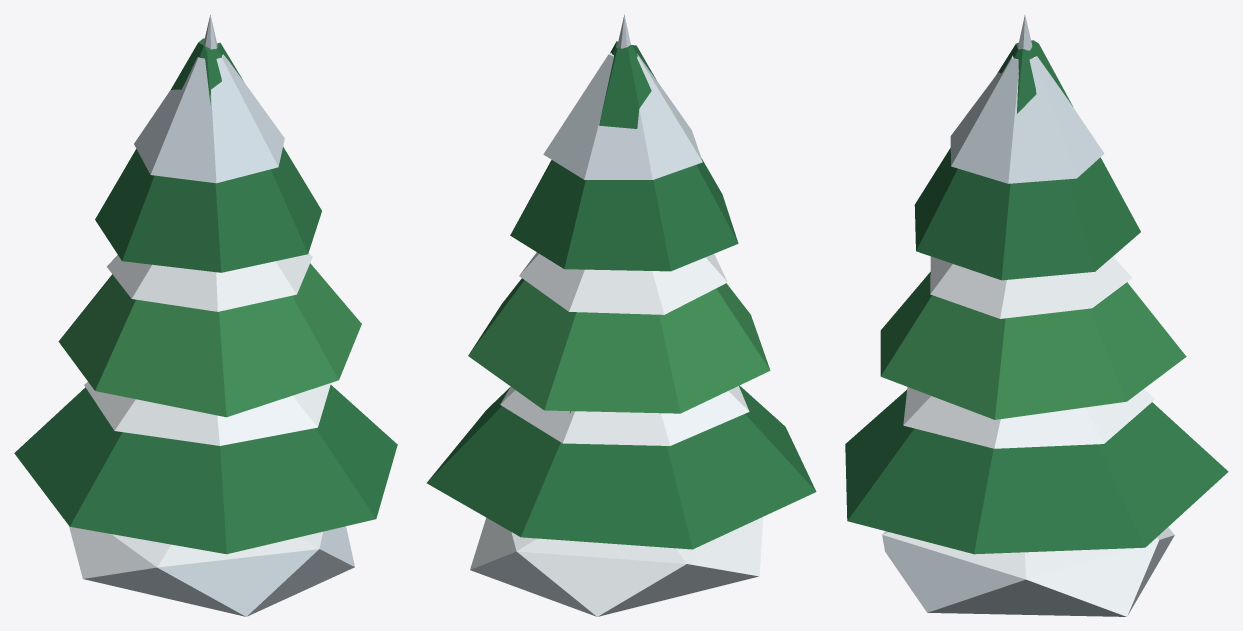
File: fir_tree_small.glb
The picture shows the model from 3 angles, left to right: view 1: azimuth 30°, elevation 25°; view 2: azimuth 150°, elevation 25°; view 3: azimuth 270°, elevation 25°; orthographic projection.
Parts seen in each view (by area): view 1: part_crown, fir_tree_small; view 2: part_crown, fir_tree_small; view 3: part_crown, fir_tree_small.
Part boxes in pixels (x1,y1,x2,y2): part_crown: [14, 14, 397, 554]; fir_tree_small: [69, 526, 354, 616]; part_crown: [426, 14, 816, 549]; fir_tree_small: [470, 517, 763, 616]; part_crown: [845, 14, 1228, 554]; fir_tree_small: [882, 527, 1174, 616].
Bounding box in the file's own units: 0.9531 × 1.57 × 0.9478.
